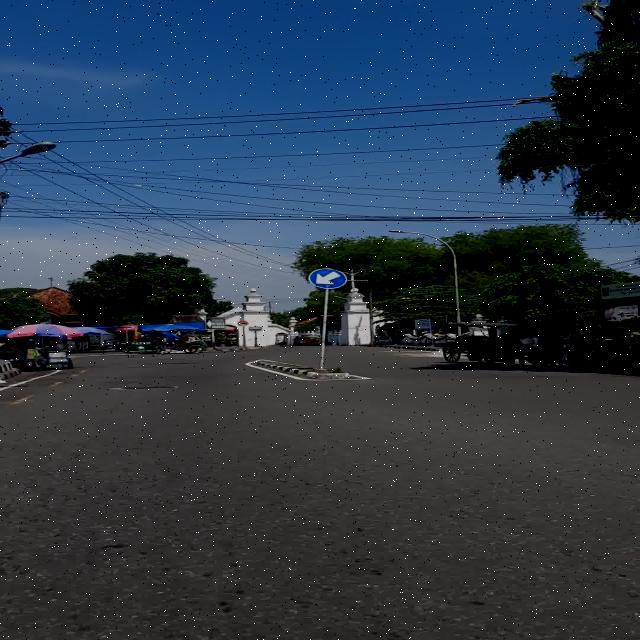Lajur Kiri: (308, 268, 347, 289)
